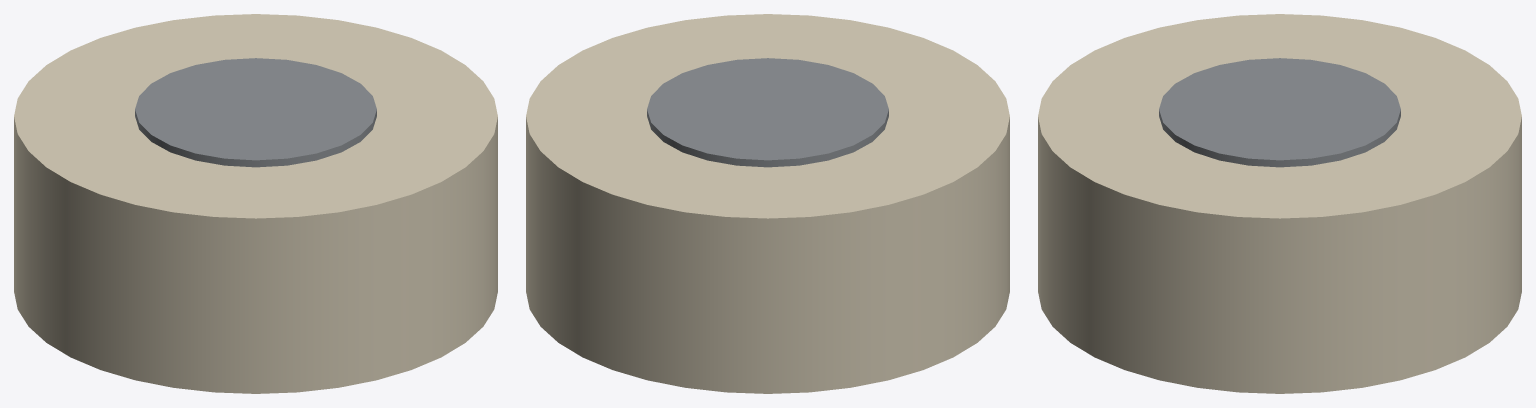
The model's file is castor_left.obj.
3 views of the same model, side by side, from view 1: azimuth 30°, elevation 25°; view 2: azimuth 150°, elevation 25°; view 3: azimuth 270°, elevation 25° (orthographic).
Parts seen in each view (by area): view 1: castor_left_tyre, castor_left_hub; view 2: castor_left_tyre, castor_left_hub; view 3: castor_left_tyre, castor_left_hub.
Part boxes in pixels (x1=…): castor_left_tyre: x1=14, y1=14, x2=497, y2=393; castor_left_hub: x1=135, y1=58, x2=376, y2=167; castor_left_tyre: x1=526, y1=14, x2=1009, y2=393; castor_left_hub: x1=647, y1=58, x2=888, y2=167; castor_left_tyre: x1=1038, y1=14, x2=1521, y2=393; castor_left_hub: x1=1159, y1=58, x2=1400, y2=167.
Size of the model in its own units: 0.125 by 0.054 by 0.125.
